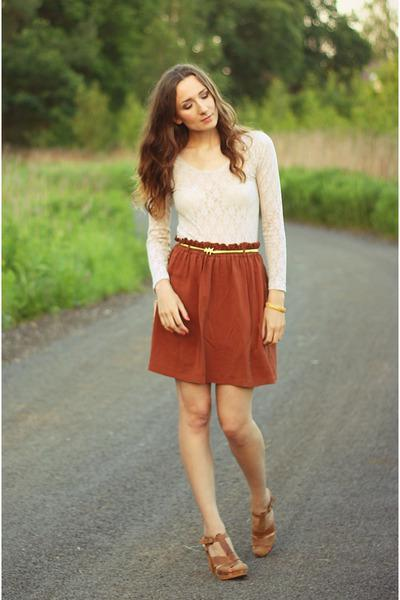long sleeve shirt: (142, 126, 287, 296)
skirt: (136, 237, 281, 385)
